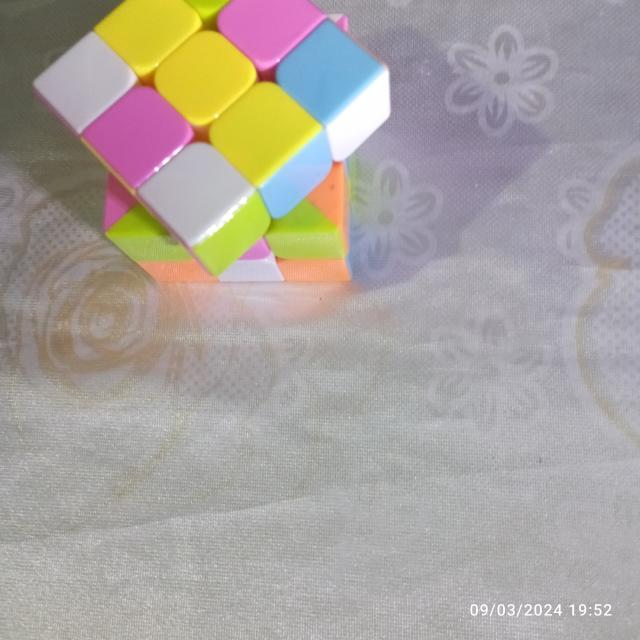Rub: (27, 0, 395, 293)
